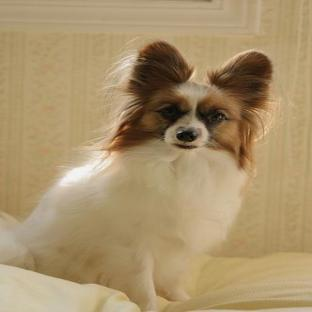Animal: (0, 41, 272, 311)
